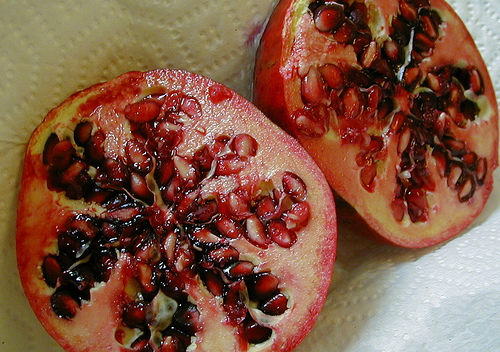pomogranate: (15, 66, 337, 351), (252, 0, 499, 250)
